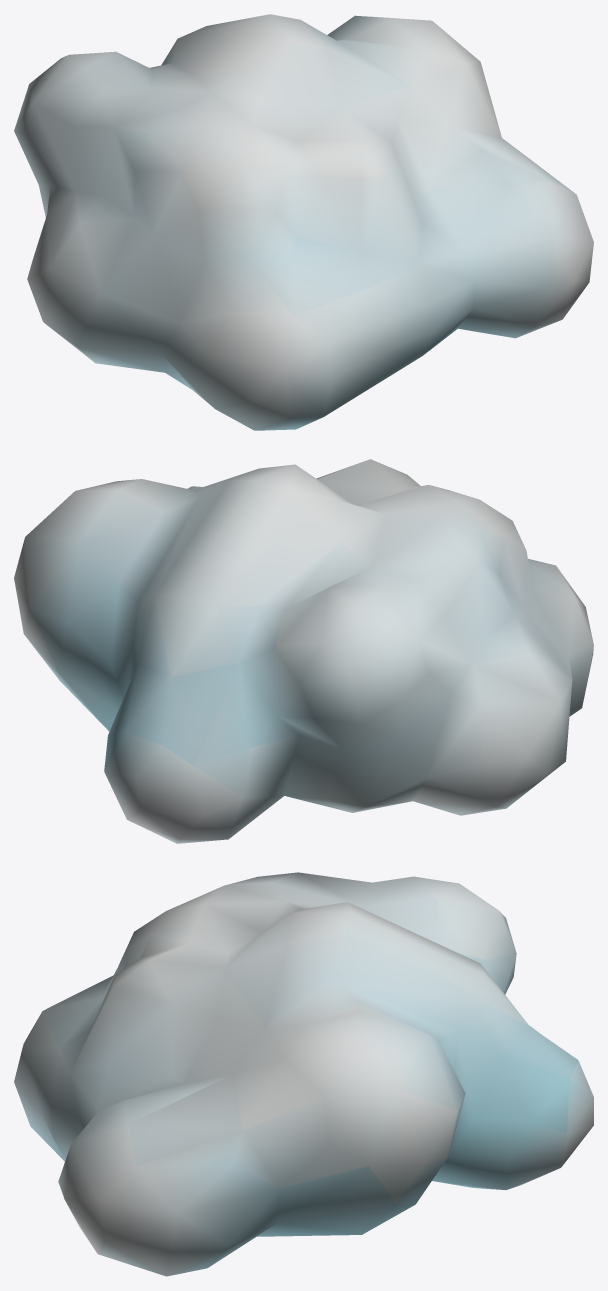
The model's file is deerlyupdate2023CloudChunk.fbx.
3 renders of one model, top to bottom at view 1: azimuth 30°, elevation 25°; view 2: azimuth 150°, elevation 25°; view 3: azimuth 270°, elevation 25°, orthographic. The views are drawn at different scales.
Visible parts, largest first — view 1: Mball.001; view 2: Mball.001; view 3: Mball.001.
Part boxes in pixels (x1,y1,x2,y2): Mball.001: [14, 14, 593, 430]; Mball.001: [14, 459, 593, 843]; Mball.001: [14, 872, 593, 1276].
Size of the model in its own units: 689 by 416 by 727.
